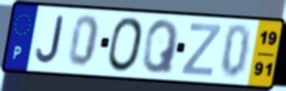0: (67, 13, 101, 71), (220, 23, 253, 80)
J: (34, 15, 65, 66)
O: (107, 16, 146, 74)
Q: (141, 18, 181, 75)
Z: (179, 22, 223, 78)
